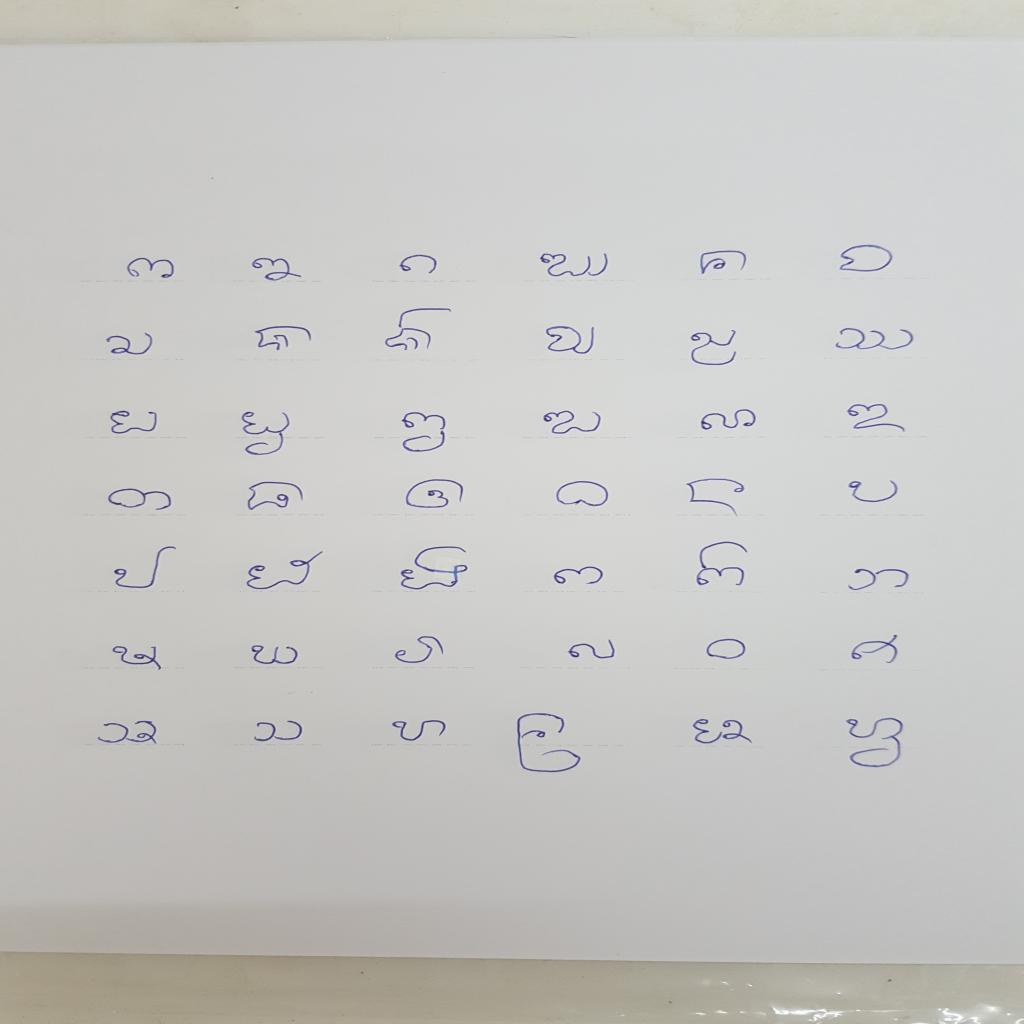LN001: (123, 256, 180, 284)
LN002: (248, 256, 309, 285)
LN003: (397, 253, 442, 278)
LN004: (535, 252, 615, 281)
LN005: (696, 249, 752, 279)
LN006: (835, 243, 898, 276)
LN007: (100, 330, 159, 359)
LN011: (686, 328, 743, 369)
LN012: (829, 326, 921, 355)
LN013: (105, 408, 163, 438)
LN016: (537, 408, 607, 438)
LN017: (696, 408, 763, 435)
LN018: (844, 402, 911, 436)
LN019: (105, 486, 178, 514)
LN020: (243, 479, 311, 515)
LN021: (402, 477, 470, 513)
LN022: (551, 479, 615, 511)
LN023: (681, 476, 751, 521)
LN024: (844, 477, 904, 506)
LN025: (111, 544, 182, 592)
LN026: (242, 549, 329, 594)
LN027: (395, 544, 476, 594)
LN028: (550, 564, 609, 590)
LN029: (694, 540, 754, 591)
LN030: (842, 565, 915, 594)
LN031: (108, 644, 168, 675)
LN032: (244, 643, 305, 669)
LN034: (564, 636, 623, 662)
LN035: (700, 636, 752, 664)
LN036: (846, 632, 905, 668)
LN037: (96, 718, 164, 749)
LN038: (249, 719, 310, 746)
LN040: (509, 710, 586, 777)
LN041: (689, 716, 760, 748)
LN042: (841, 715, 910, 772)
